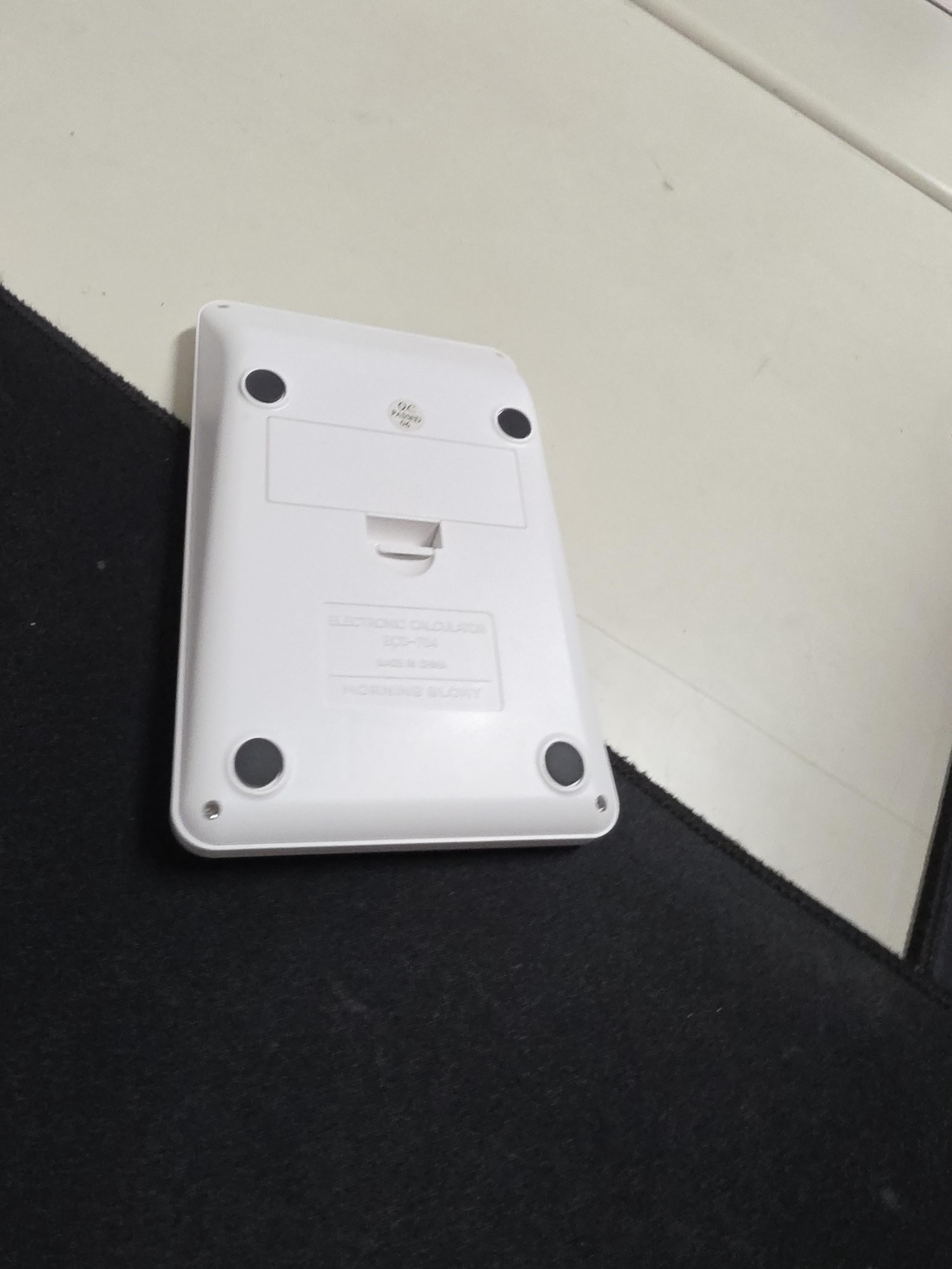calculator: (170, 299, 620, 858)
